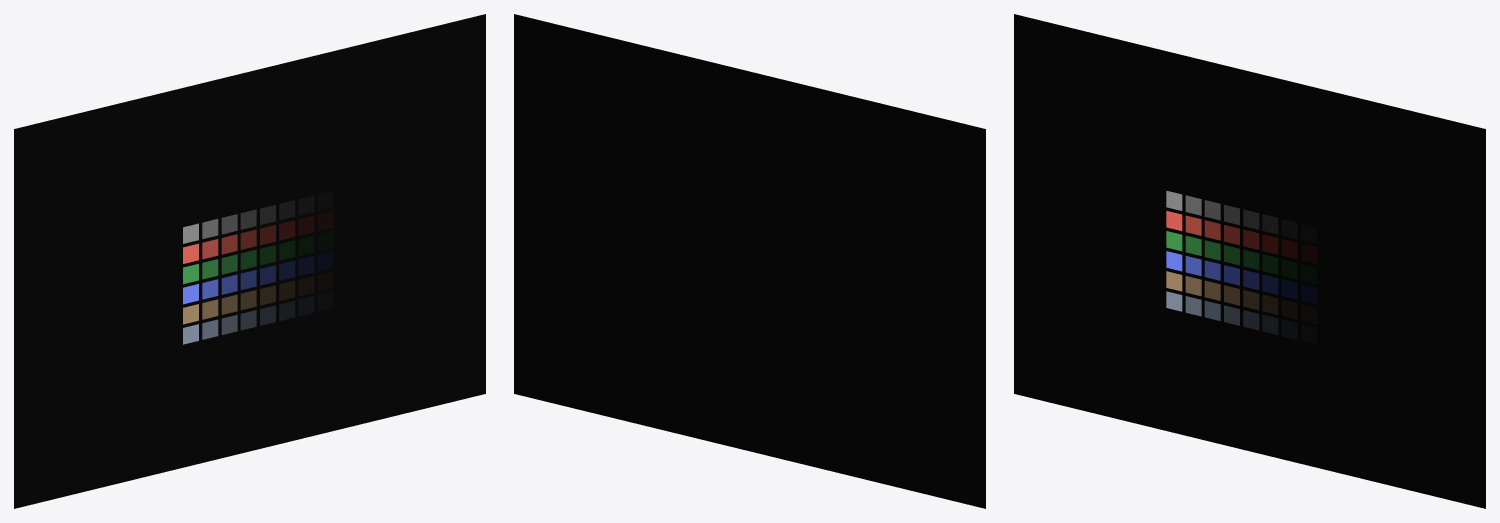
Rendered from purkinje_fixture.gltf.
3 renders of one model, left to right at view 1: azimuth 30°, elevation 25°; view 2: azimuth 150°, elevation 25°; view 3: azimuth 330°, elevation 25°, orthographic.
Visible parts, largest first — view 1: backdrop; view 2: backdrop; view 3: backdrop.
Boxes of the visible parts, x1,y1,x2,y2 form: backdrop: (14,14,485,508); backdrop: (514,14,985,508); backdrop: (1014,14,1485,508).
Bounding box in the file's own units: 26 × 20 × 0.8.
